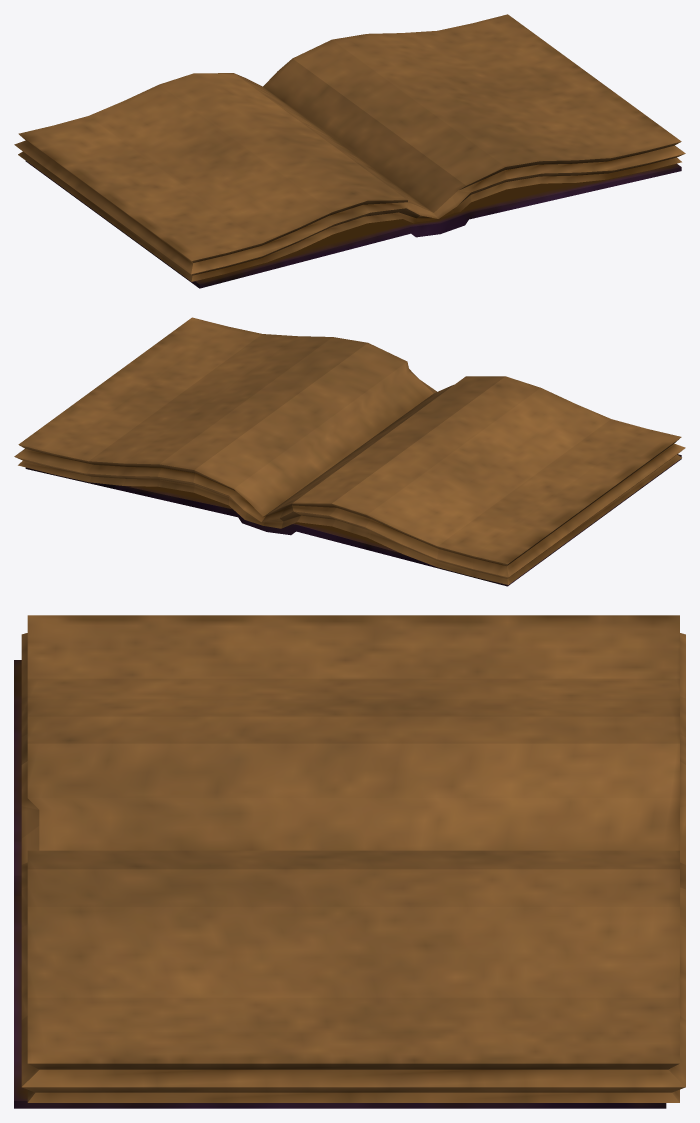
File: Book4.fbx
3 views of the same model, one above another, from view 1: azimuth 30°, elevation 25°; view 2: azimuth 150°, elevation 25°; view 3: azimuth 270°, elevation 25° (orthographic). The views are drawn at different scales.
Visible parts, largest first — view 1: Book4.002; view 2: Book4.002; view 3: Book4.002.
Part boxes in pixels (x1,y1,x2,y2): Book4.002: (14, 14, 685, 288); Book4.002: (14, 317, 685, 586); Book4.002: (14, 615, 685, 1108).
Size of the model in its own units: 49.99 by 4.61 by 31.35.
1 material, 1 textured.
